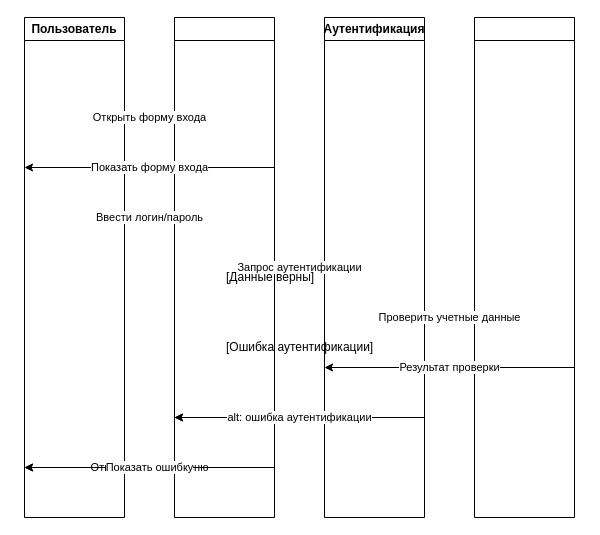
The diagram is 600 pixels wide and 535 high, and some of its shapes have lost their labels. The shapes that lost their labels are listed below. From the top down, each one's box as (x1, y1, x2, y2) in pixels, then its label:
(174, 16, 274, 518): Интерфейс
(474, 16, 574, 518): База данных
